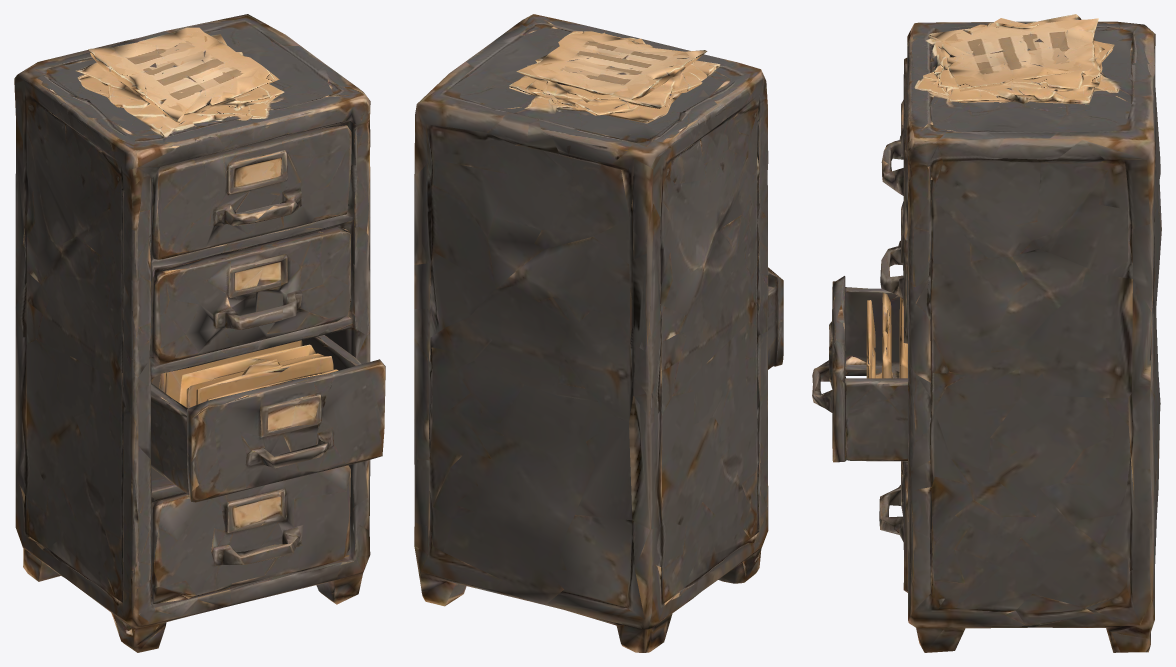
Rendered from d_filing_cabinet.glb.
The picture shows the model from 3 angles, left to right: view 1: azimuth 30°, elevation 25°; view 2: azimuth 150°, elevation 25°; view 3: azimuth 270°, elevation 25°; orthographic projection. The views are drawn at different scales.
Bounding box in the file's own units: 0.9236 × 1.9 × 1.11.
Materials: 1 (1 with a texture image).
